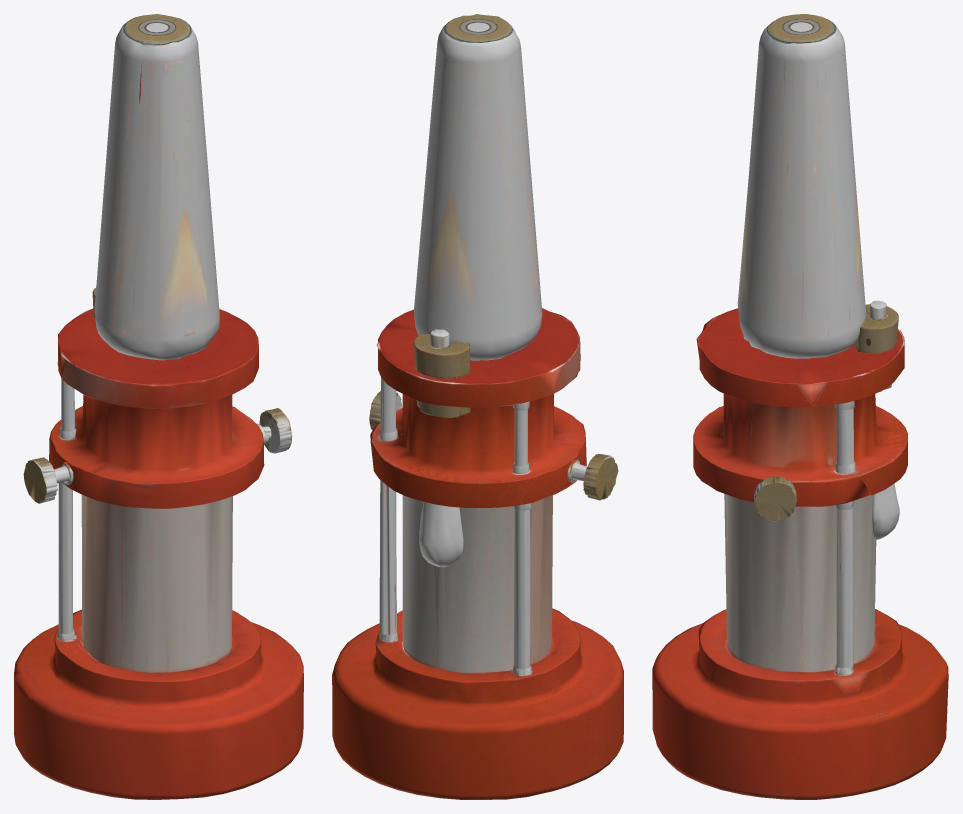
The model's file is spirit-lamp.glb.
3 views of the same model, side by side, from view 1: azimuth 30°, elevation 25°; view 2: azimuth 150°, elevation 25°; view 3: azimuth 270°, elevation 25° (orthographic).
Size of the model in its own units: 0.3496 by 0.9512 by 0.3565.
1 material, 1 textured.
